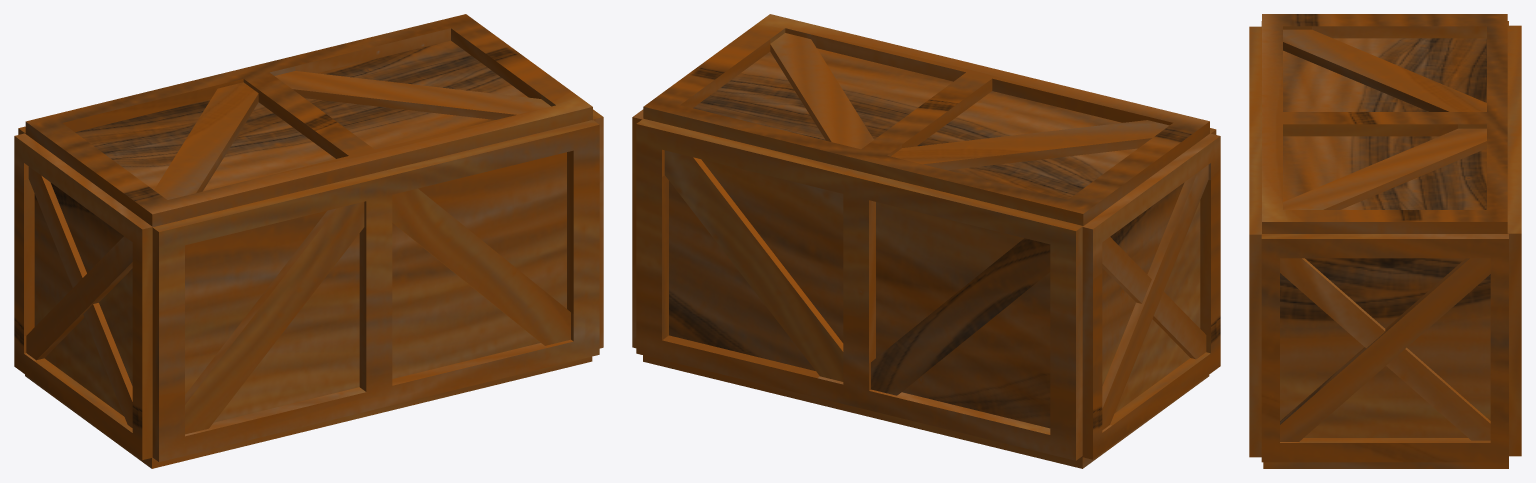
File: WoodenBoxLarge.glb
3 renders of one model, left to right at view 1: azimuth 30°, elevation 25°; view 2: azimuth 150°, elevation 25°; view 3: azimuth 270°, elevation 25°, orthographic. The views are drawn at different scales.
Parts seen in each view (by area): view 1: WoodenBoxLarge; view 2: WoodenBoxLarge; view 3: WoodenBoxLarge.
Boxes of the visible parts, left/top/right/bottom form: WoodenBoxLarge: left=14, top=14, right=603, bottom=468; WoodenBoxLarge: left=632, top=14, right=1220, bottom=468; WoodenBoxLarge: left=1249, top=14, right=1521, bottom=468.
Size of the model in its own units: 4.19 by 2.22 by 2.22.
1 material, 1 textured.
